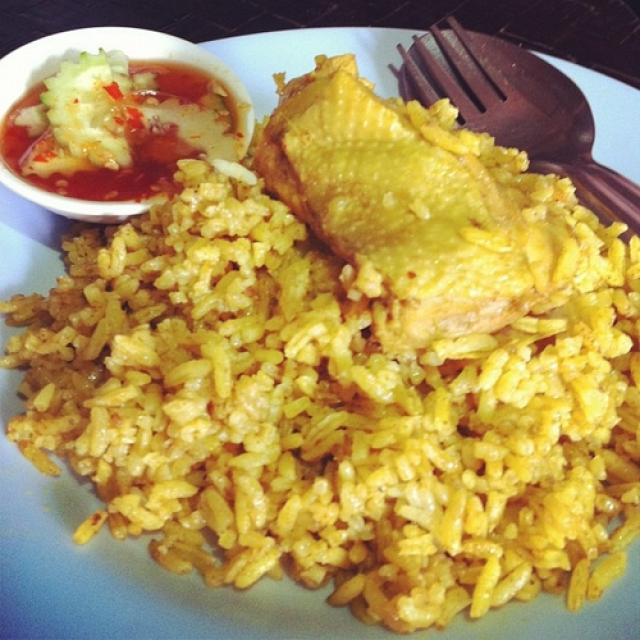米饭主食: (19, 15, 626, 621)
